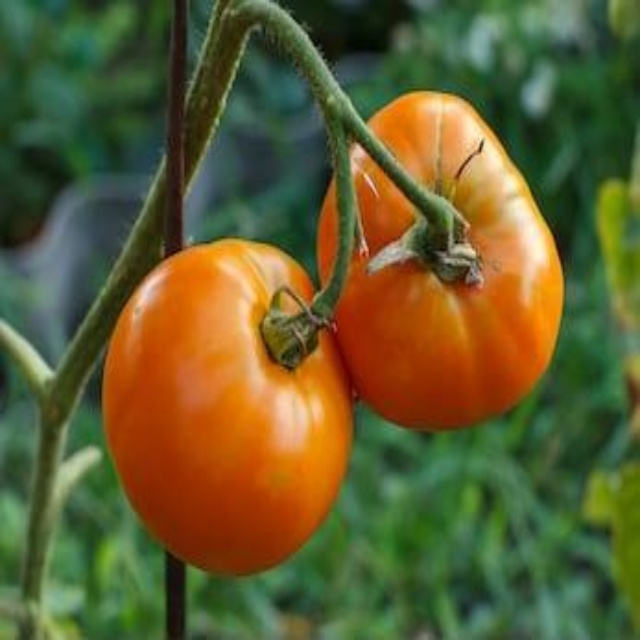tomato: (312, 81, 565, 433), (97, 238, 352, 574)
